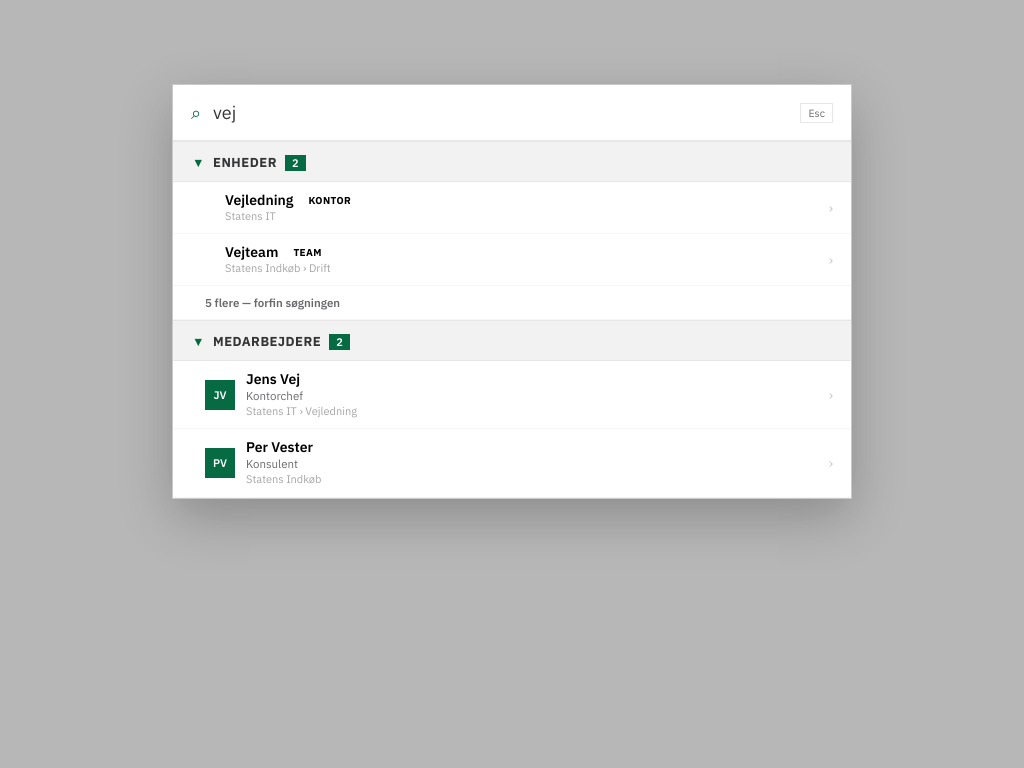
Test case: SearchOverlay — the read-only search palette › a folded section hides its "N flere" footer
Expected: the text "5 flere — forfin søgningen" is shown, [173,286,851,320]
Click the button with test id "search-section-enheder" at (245, 162), box [173,141,851,182]
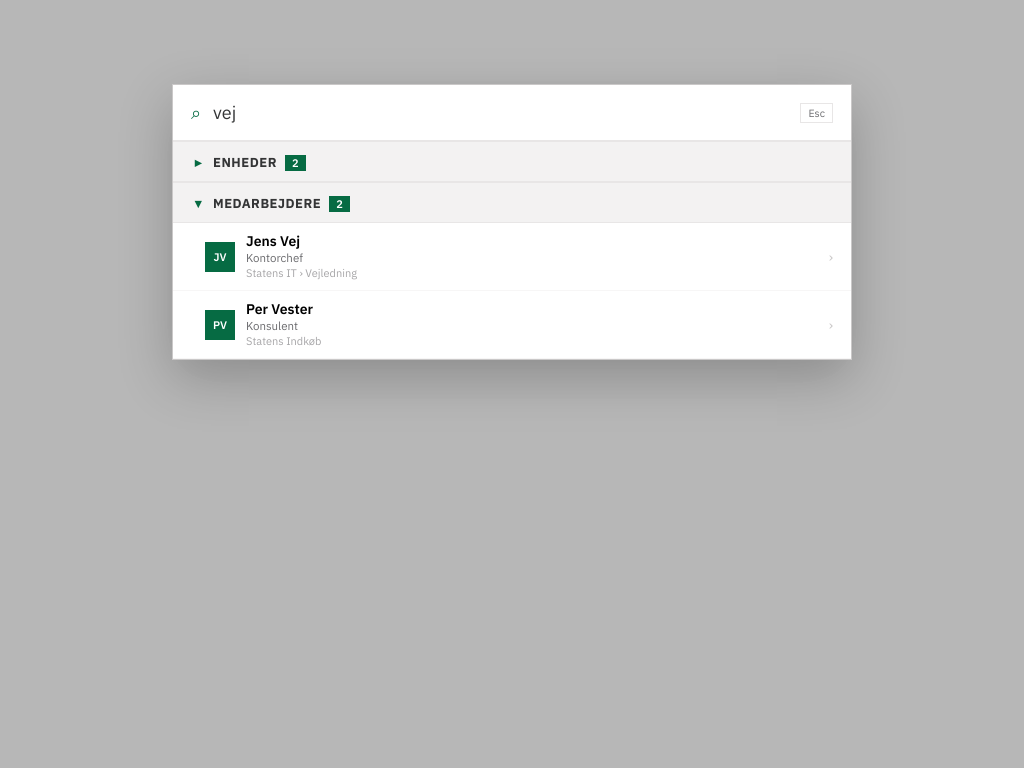
Result: the text with test id "search-section-enheder-more" is gone
